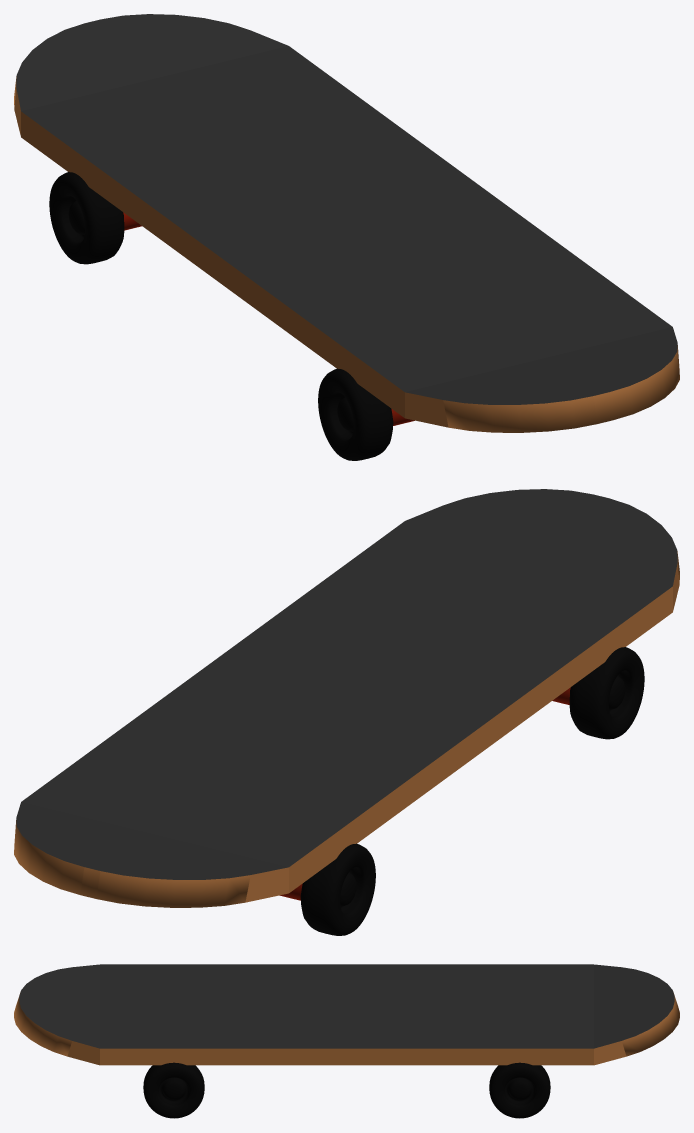
File: player.glb
3 renders of one model, top to bottom at view 1: azimuth 30°, elevation 25°; view 2: azimuth 150°, elevation 25°; view 3: azimuth 270°, elevation 25°, orthographic. The views are drawn at different scales.
Visible parts, largest first — view 1: skateboard_bord.002, skateboard_wheels.002; view 2: skateboard_bord.002, skateboard_wheels.002; view 3: skateboard_bord.002, skateboard_wheels.002.
Boxes of the visible parts, x1,y1,x2,y2 form: skateboard_bord.002: (14,14,679,432); skateboard_wheels.002: (49,172,393,460); skateboard_bord.002: (14,489,679,907); skateboard_wheels.002: (300,647,644,935); skateboard_bord.002: (14,964,679,1065); skateboard_wheels.002: (143,1062,550,1118).
Bounding box in the file's own units: 2.13 × 0.8503 × 6.69.
